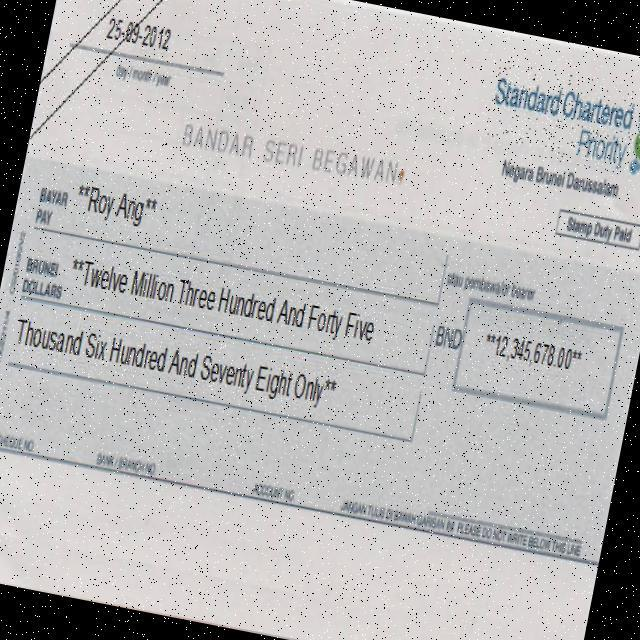Standard Chartered: (482, 59, 640, 180)
